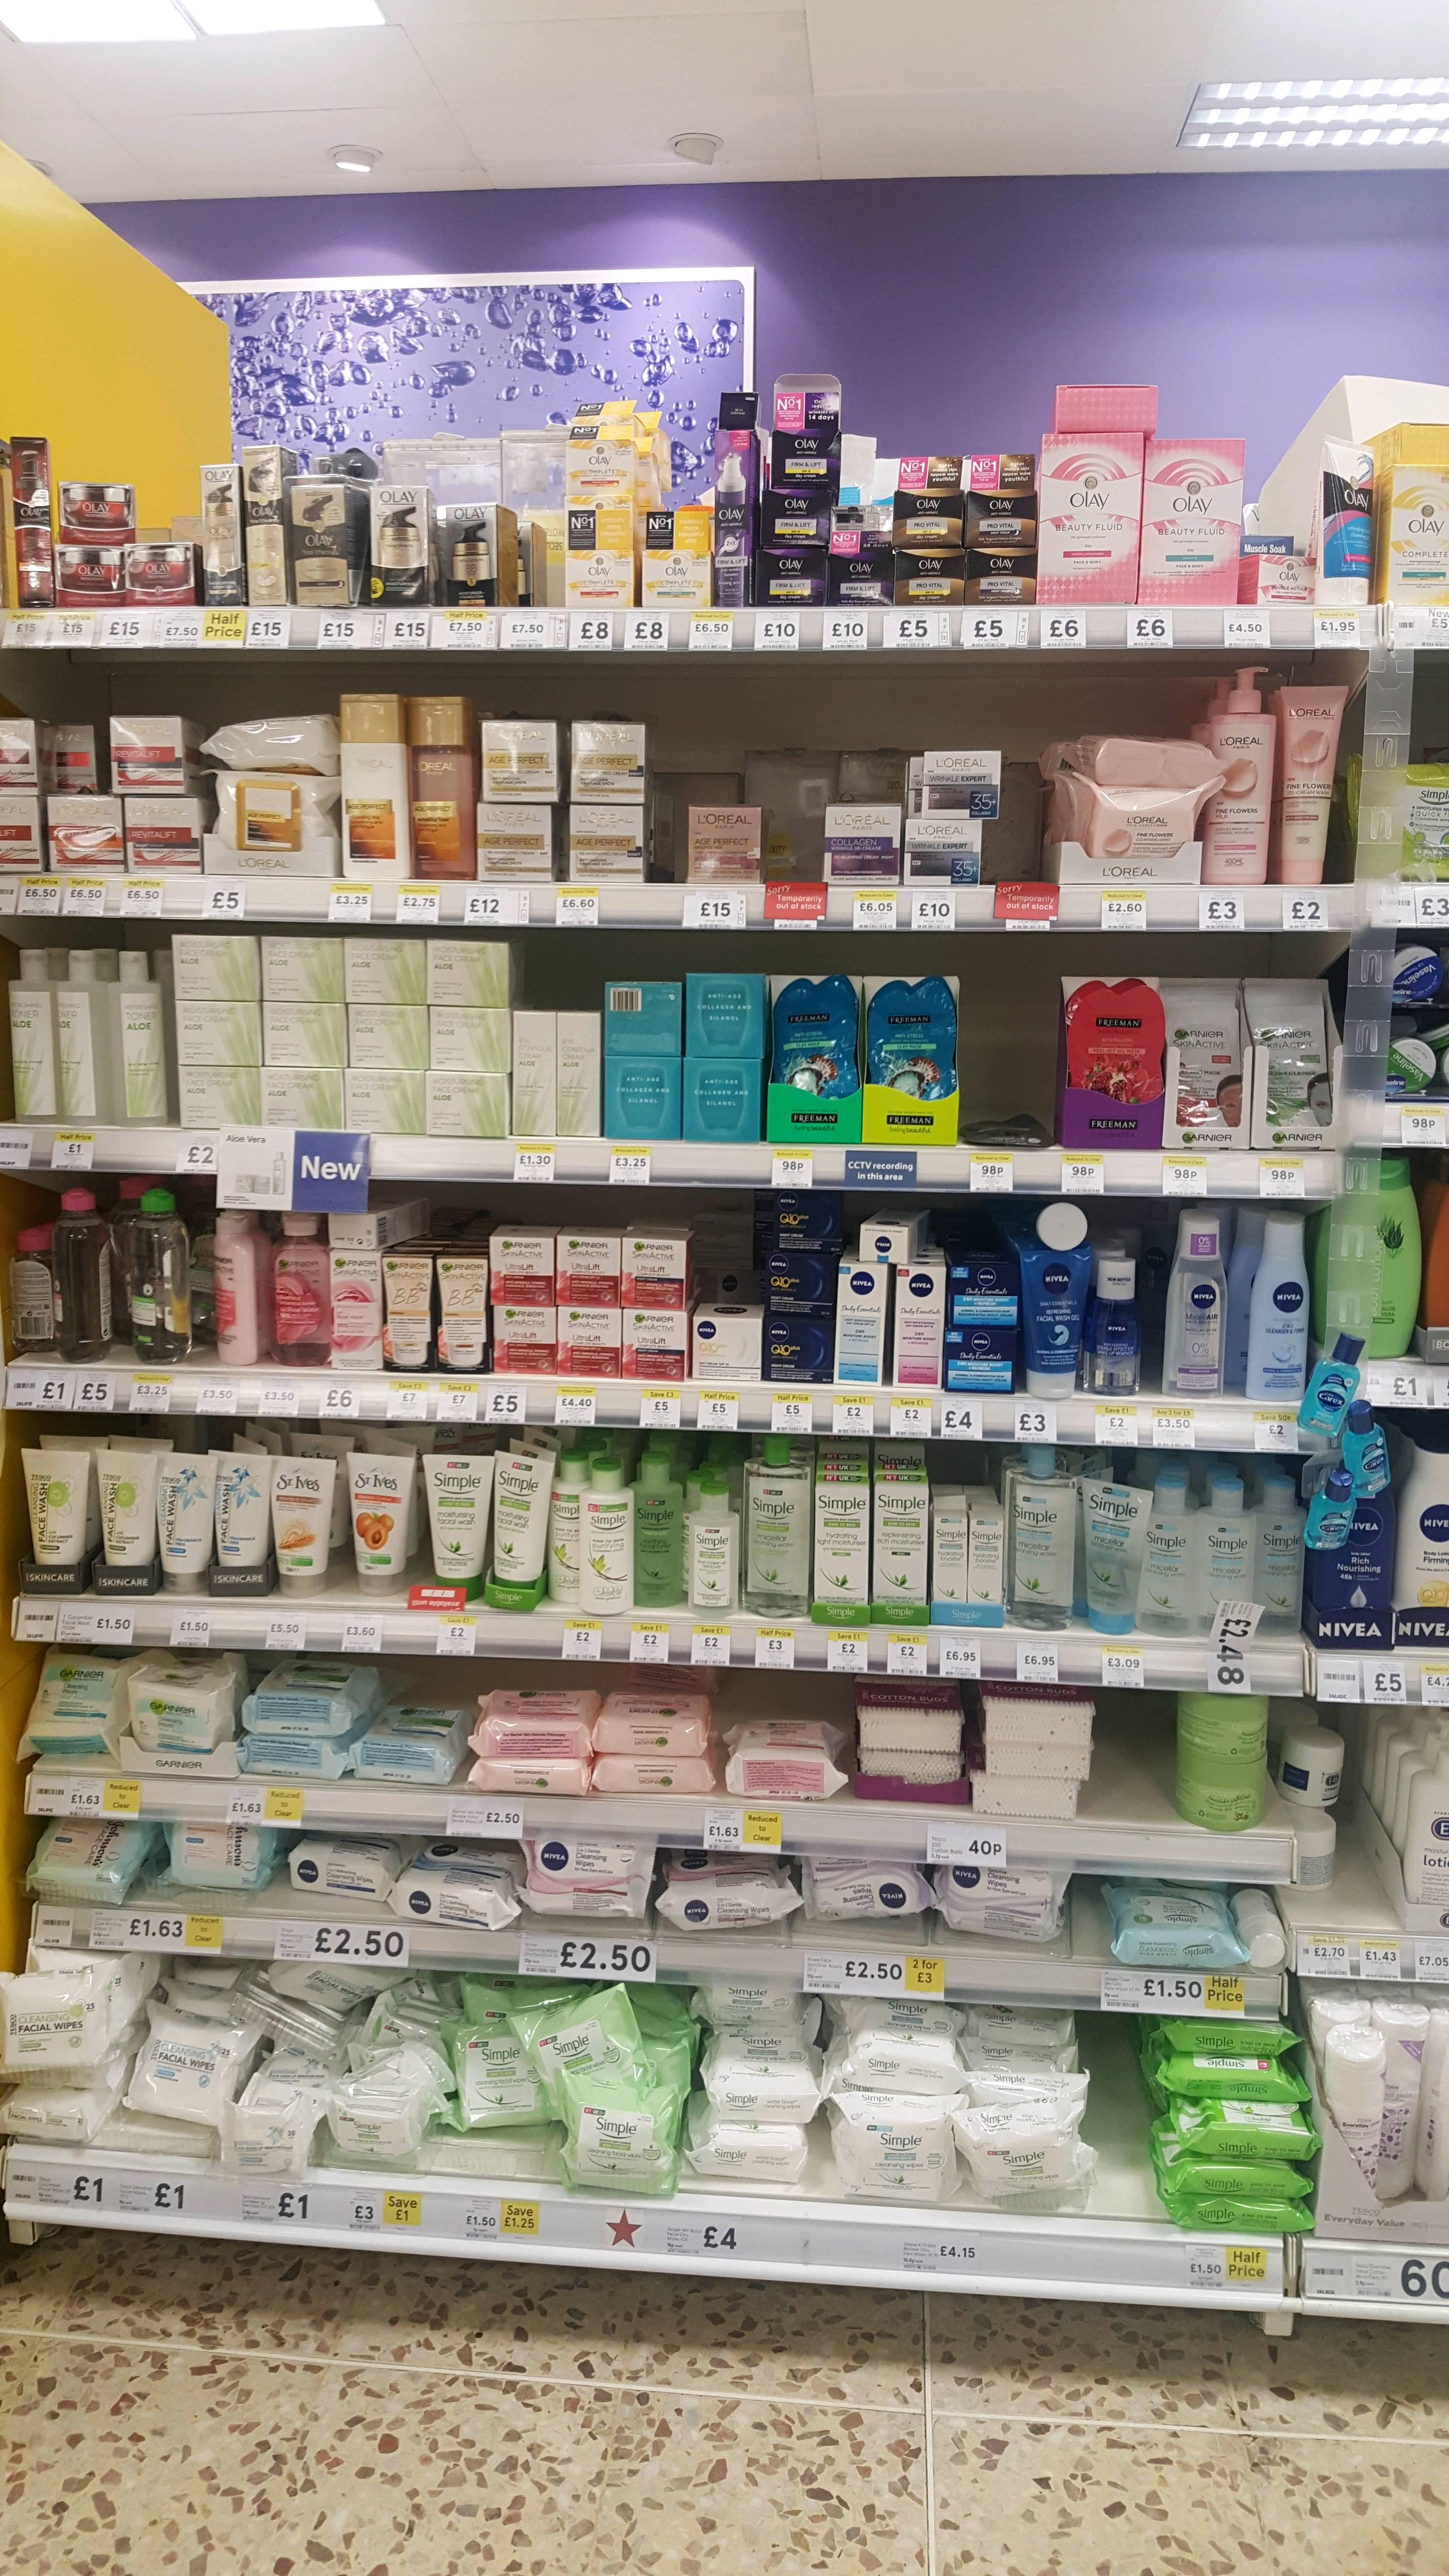empty: (1093, 2022, 1146, 2220), (1102, 1702, 1169, 1817), (1008, 727, 1044, 883)
misalignment: (232, 1957, 453, 2171), (511, 1987, 681, 2190), (902, 748, 1003, 885), (964, 1115, 1060, 1150)
